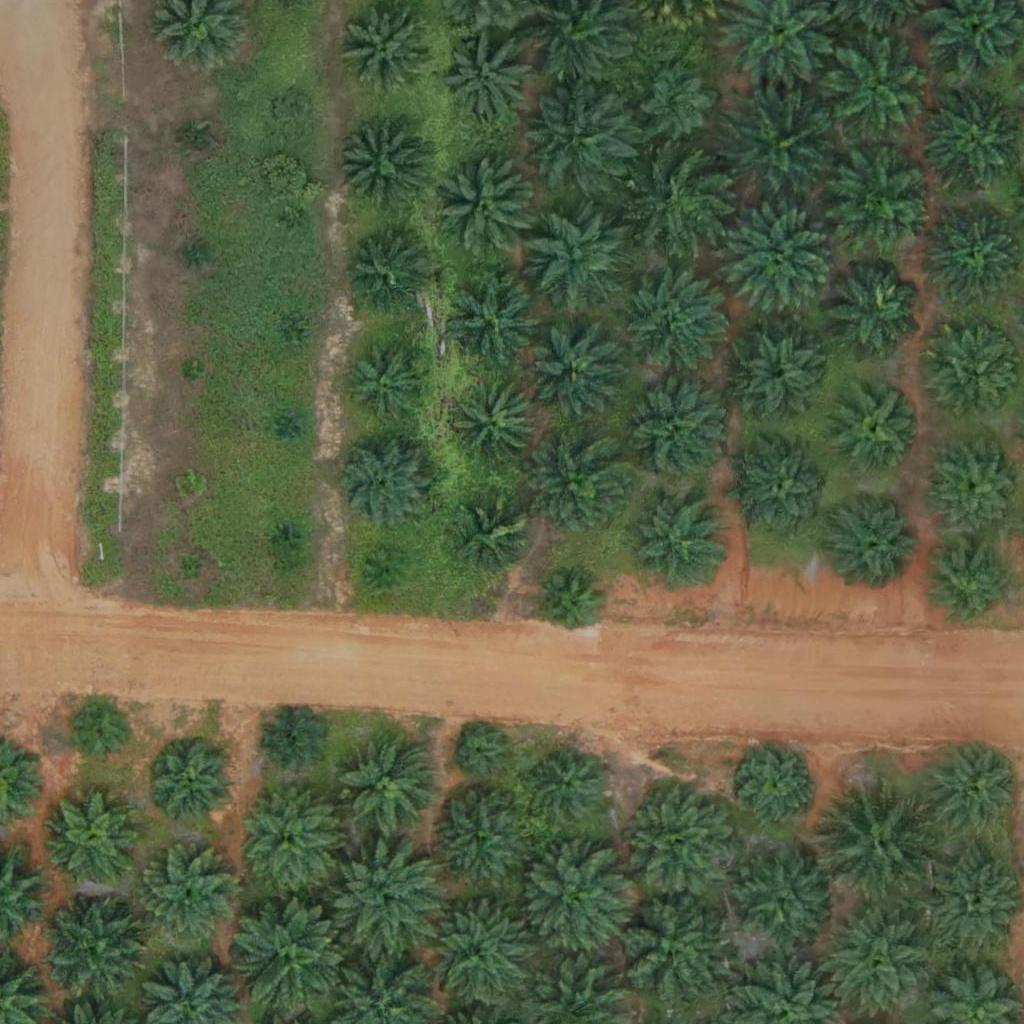Kelapa_Sawit: (231, 893, 356, 1019), (619, 777, 744, 903), (607, 888, 732, 1014), (818, 778, 943, 904), (415, 896, 540, 1021), (721, 209, 834, 323), (39, 893, 152, 1007), (823, 37, 936, 150), (718, 89, 831, 202), (328, 842, 441, 955), (526, 79, 638, 193), (328, 427, 440, 540), (517, 845, 629, 958), (834, 147, 934, 248), (525, 208, 625, 309), (434, 157, 534, 258), (442, 269, 542, 370), (529, 436, 629, 537), (623, 381, 723, 482), (628, 491, 728, 592), (135, 847, 235, 948), (239, 788, 339, 889), (339, 736, 439, 837), (428, 790, 528, 891), (823, 259, 923, 359), (630, 152, 730, 252), (623, 273, 723, 373), (734, 440, 834, 540), (826, 491, 926, 591), (733, 849, 833, 949), (923, 741, 1023, 841), (346, 338, 434, 427), (731, 332, 819, 420), (343, 230, 431, 318), (452, 382, 540, 470), (50, 792, 138, 880), (149, 741, 237, 829), (931, 333, 1018, 421), (532, 334, 619, 422), (444, 35, 531, 123), (344, 2, 431, 90), (337, 124, 424, 212), (834, 383, 921, 471), (928, 540, 1015, 628), (639, 63, 714, 139), (740, 746, 815, 822), (459, 500, 534, 575), (531, 749, 606, 824), (538, 573, 601, 636), (261, 711, 324, 774), (71, 704, 133, 767), (456, 728, 506, 778), (275, 94, 313, 132), (368, 549, 406, 587), (284, 209, 309, 234), (278, 325, 303, 350), (184, 129, 209, 154), (184, 242, 209, 267), (180, 360, 205, 385), (176, 472, 201, 497), (179, 556, 204, 581), (279, 414, 304, 439), (272, 524, 297, 549)
